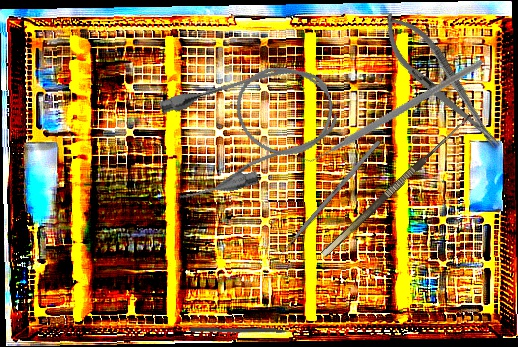Cannula: (149, 50, 349, 208)
Chopper: (294, 3, 484, 216)
Hook Surgical: (313, 105, 475, 258)
Needle Holder: (370, 2, 512, 161)
Pusher: (270, 139, 382, 266), (189, 327, 305, 335)
